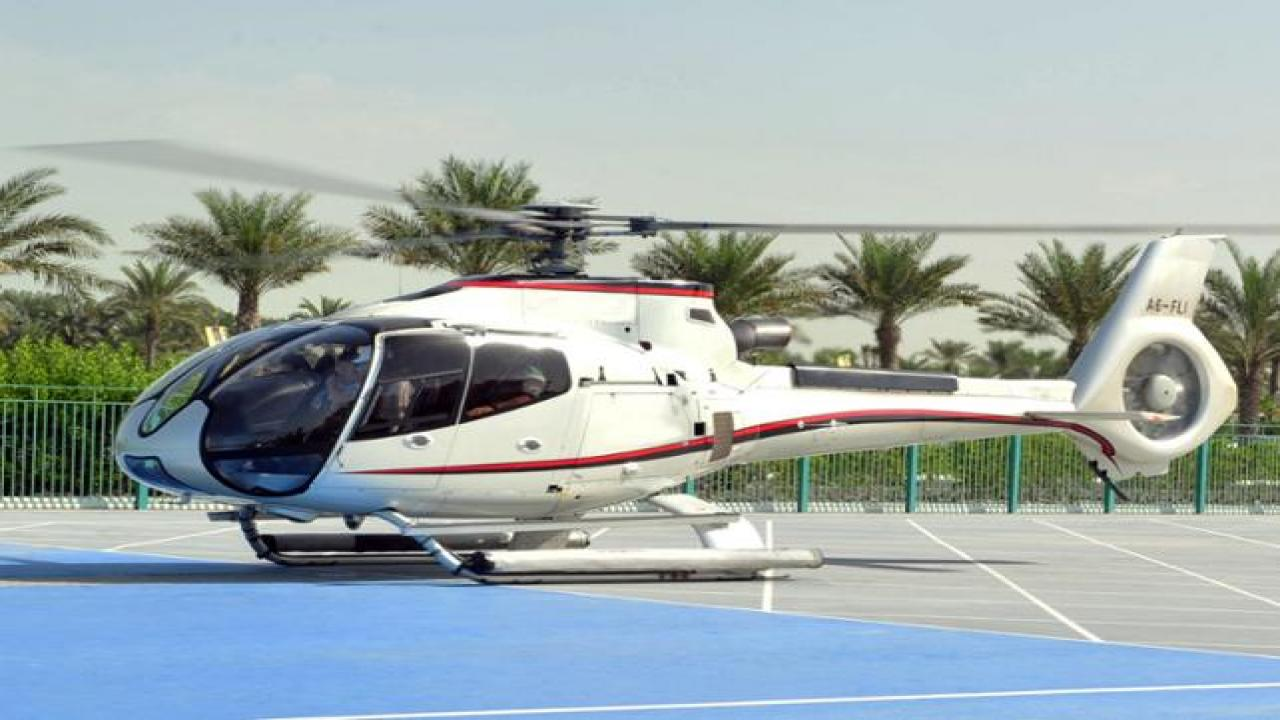Helicopter: (13, 126, 1280, 602)
